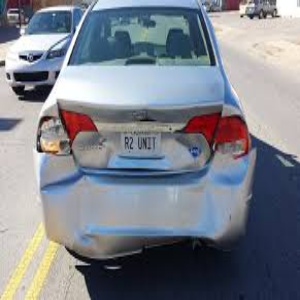bumper: (68, 224, 219, 262)
